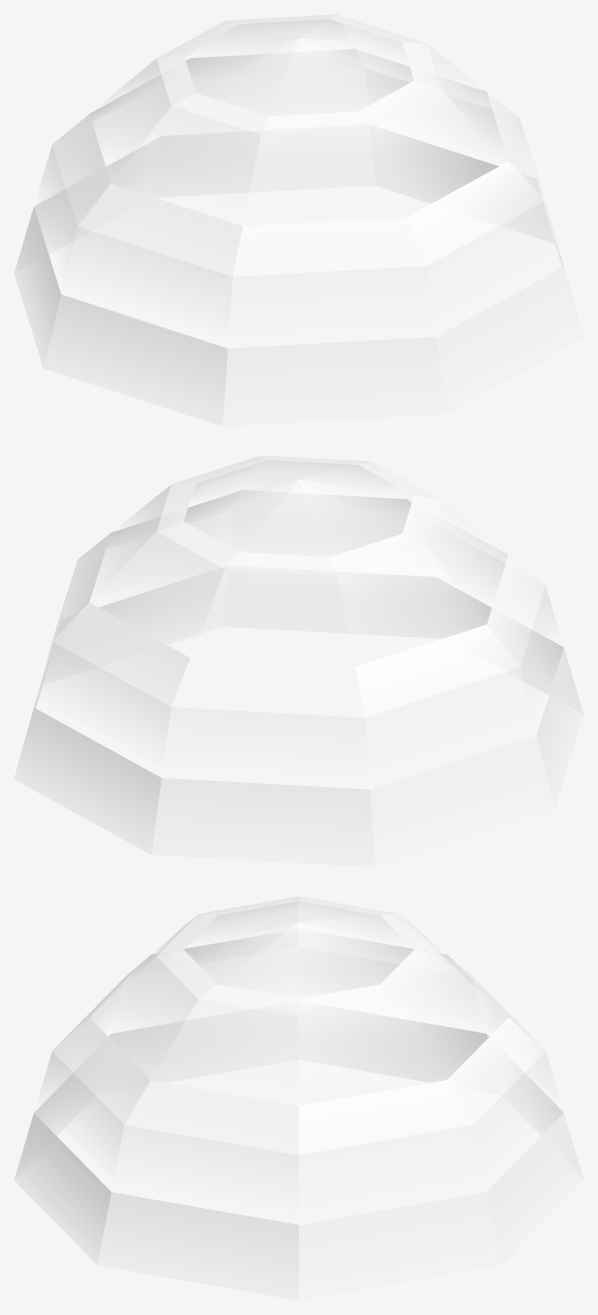
File: explosion.glb
3 views of the same model, one above another, from view 1: azimuth 30°, elevation 25°; view 2: azimuth 150°, elevation 25°; view 3: azimuth 270°, elevation 25° (orthographic). The views are drawn at different scales.
Parts seen in each view (by area): view 1: Sphere; view 2: Sphere; view 3: Sphere.
Boxes of the visible parts, bbox=[...] form: Sphere: bbox=[14, 14, 583, 426]; Sphere: bbox=[14, 455, 583, 867]; Sphere: bbox=[14, 896, 583, 1300].
Size of the model in its own units: 2 by 1 by 2.
1 material, 1 textured.
